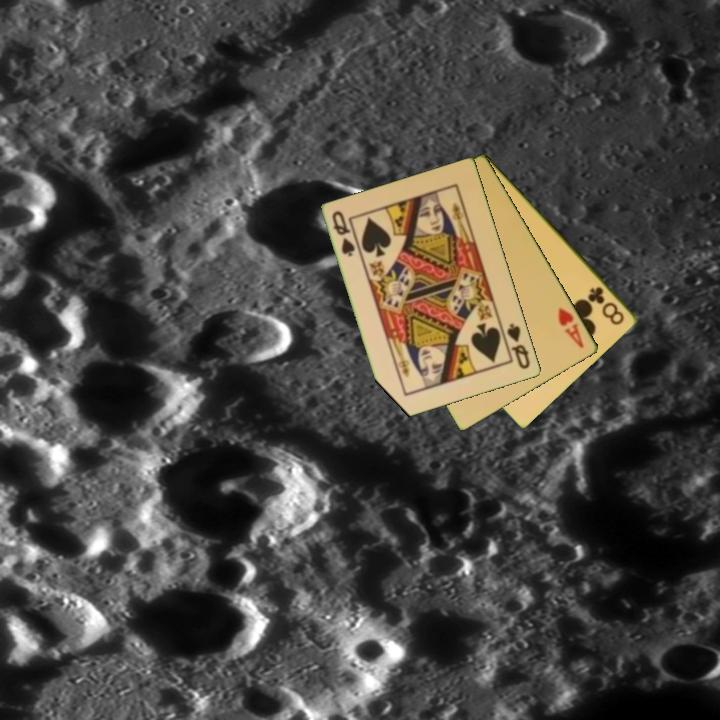8c: (584, 283, 627, 328)
Ah: (555, 304, 587, 351)
Qs: (329, 207, 358, 260), (504, 320, 533, 372)
